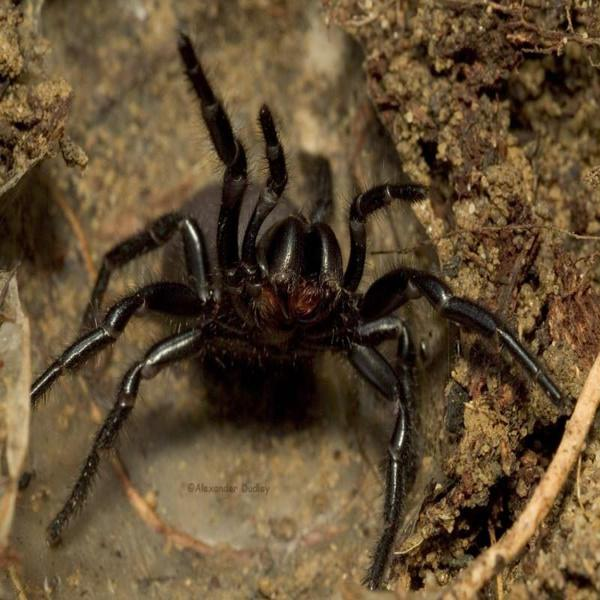Funnel Web Spider: (51, 34, 551, 568)
